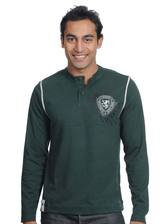clothoes: (18, 65, 154, 222)
